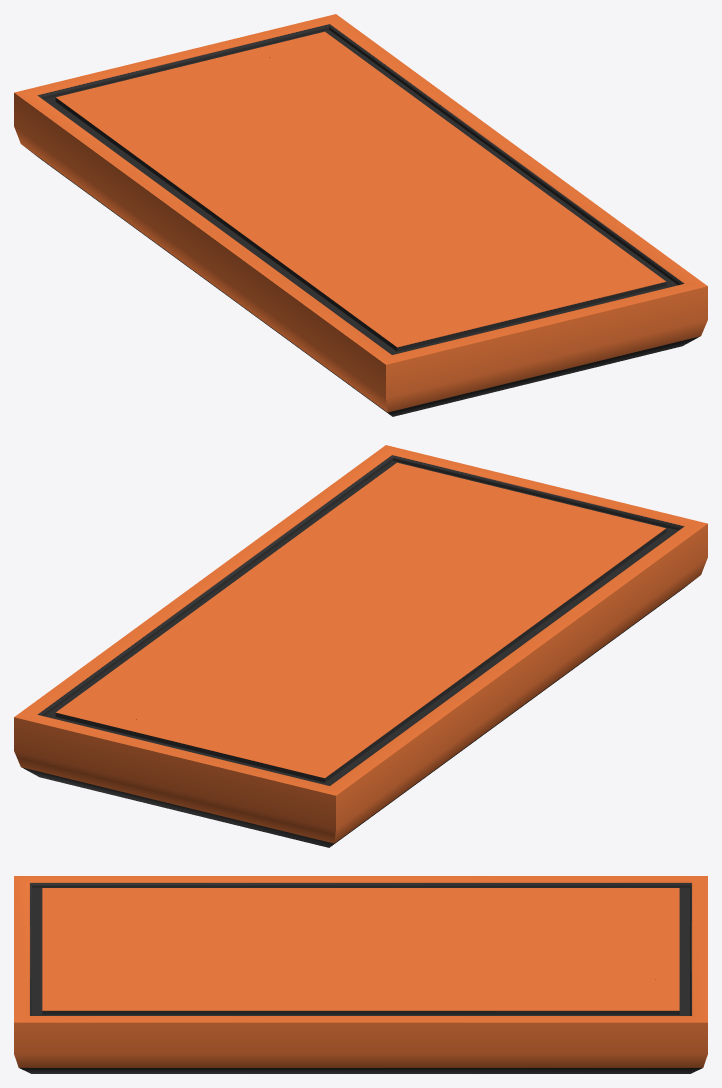
Rendered from Plataforma_CubeAdventure.fbx.
The picture shows the model from 3 angles, top to bottom: view 1: azimuth 30°, elevation 25°; view 2: azimuth 150°, elevation 25°; view 3: azimuth 270°, elevation 25°; orthographic projection. The views are drawn at different scales.
Visible parts, largest first — view 1: plataforma; view 2: plataforma; view 3: plataforma.
Part boxes in pixels (<box>): plataforma: <box>14,14,707,416</box>; plataforma: <box>14,445,707,847</box>; plataforma: <box>14,876,707,1073</box>.
Bounding box in the file's own units: 300 × 60 × 600.
Materials: 1 (1 with a texture image).
